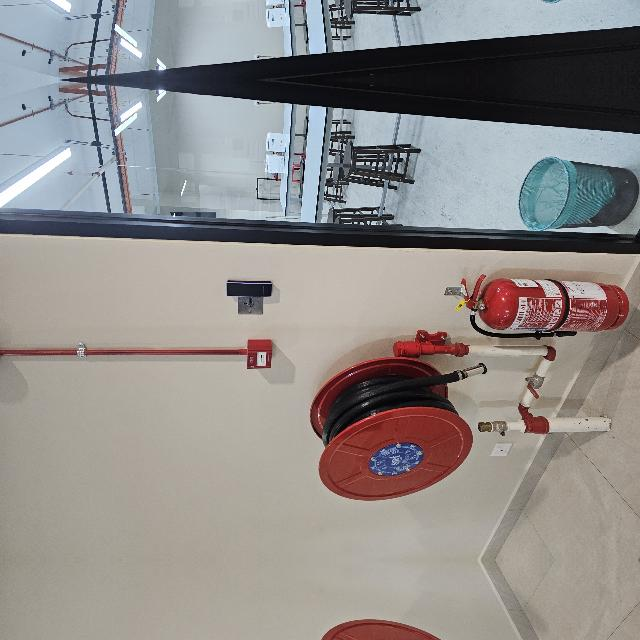obstacle: (51, 389, 213, 640), (51, 425, 213, 640), (218, 410, 288, 596), (218, 524, 288, 640)
